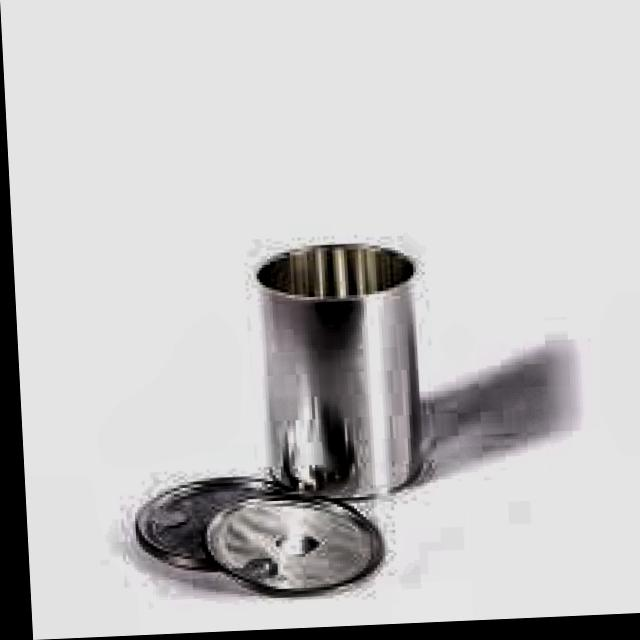can: (240, 236, 430, 513), (193, 486, 381, 615), (118, 466, 280, 589)
